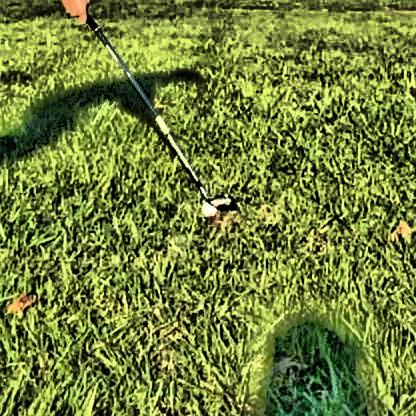golfball: (198, 199, 215, 214)
